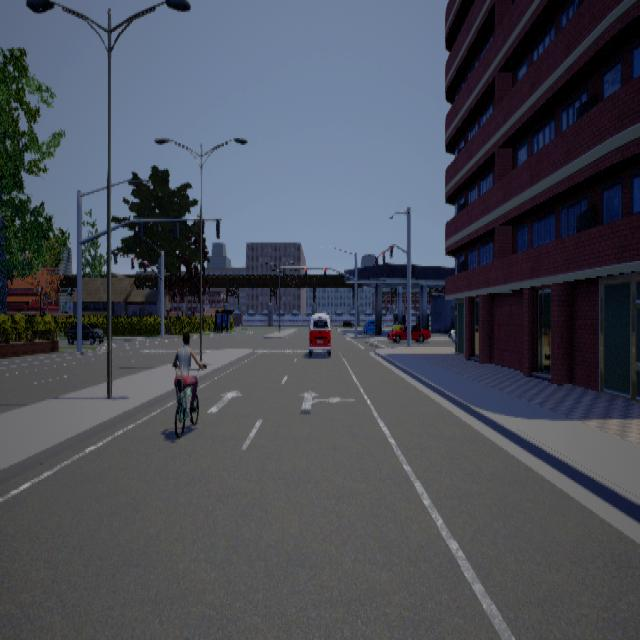bike: (173, 333, 207, 438)
red_light: (388, 244, 392, 258), (130, 256, 134, 268), (381, 249, 384, 261), (374, 256, 377, 266), (144, 261, 146, 271), (323, 266, 325, 275), (304, 266, 306, 275)
traffic_light: (282, 266, 284, 275)
vehicle: (307, 312, 331, 356)
